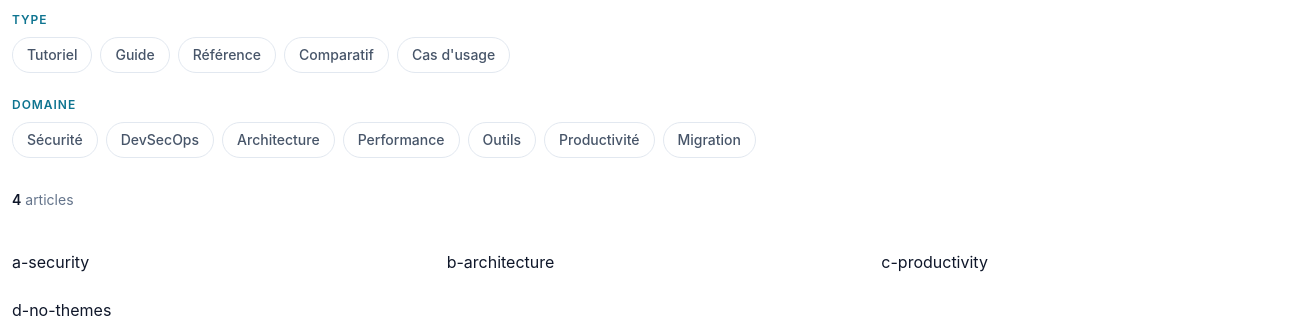
Test: ArticleThemeFilter › reset CTA clears all active filters and restores full grid
Click the button "Sécurité".
click(55, 140)  # box [12,122,98,158]
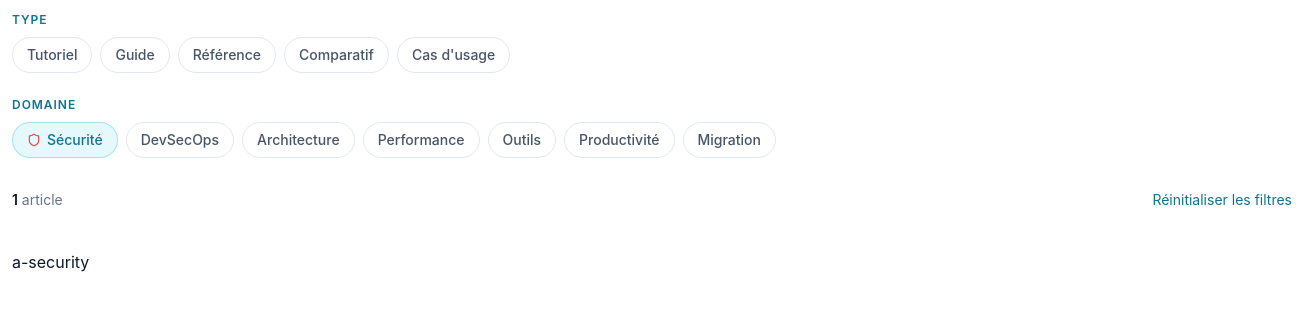
Click the button "Réinitialiser les filtres".
click(1222, 200)  # box [1152,190,1292,210]
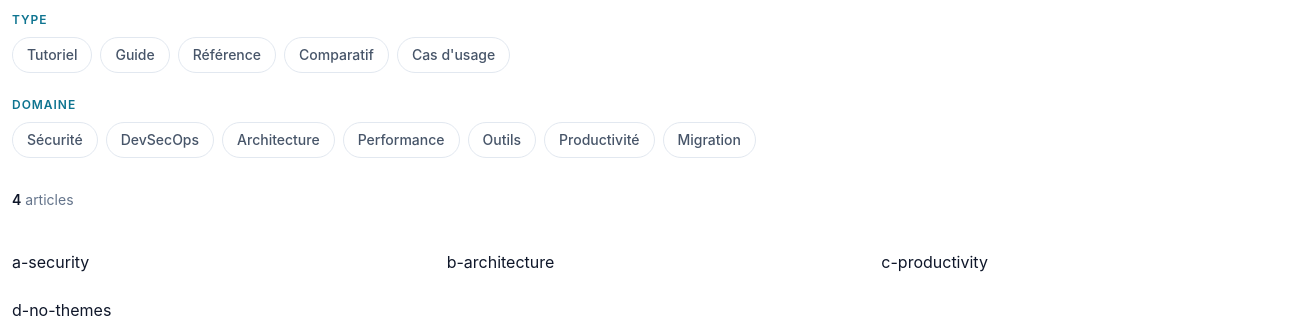
Expected: the text "a-security" is shown, [12,252,89,272]
Now the text "d-no-themes" is shown, box [12,300,111,320]
